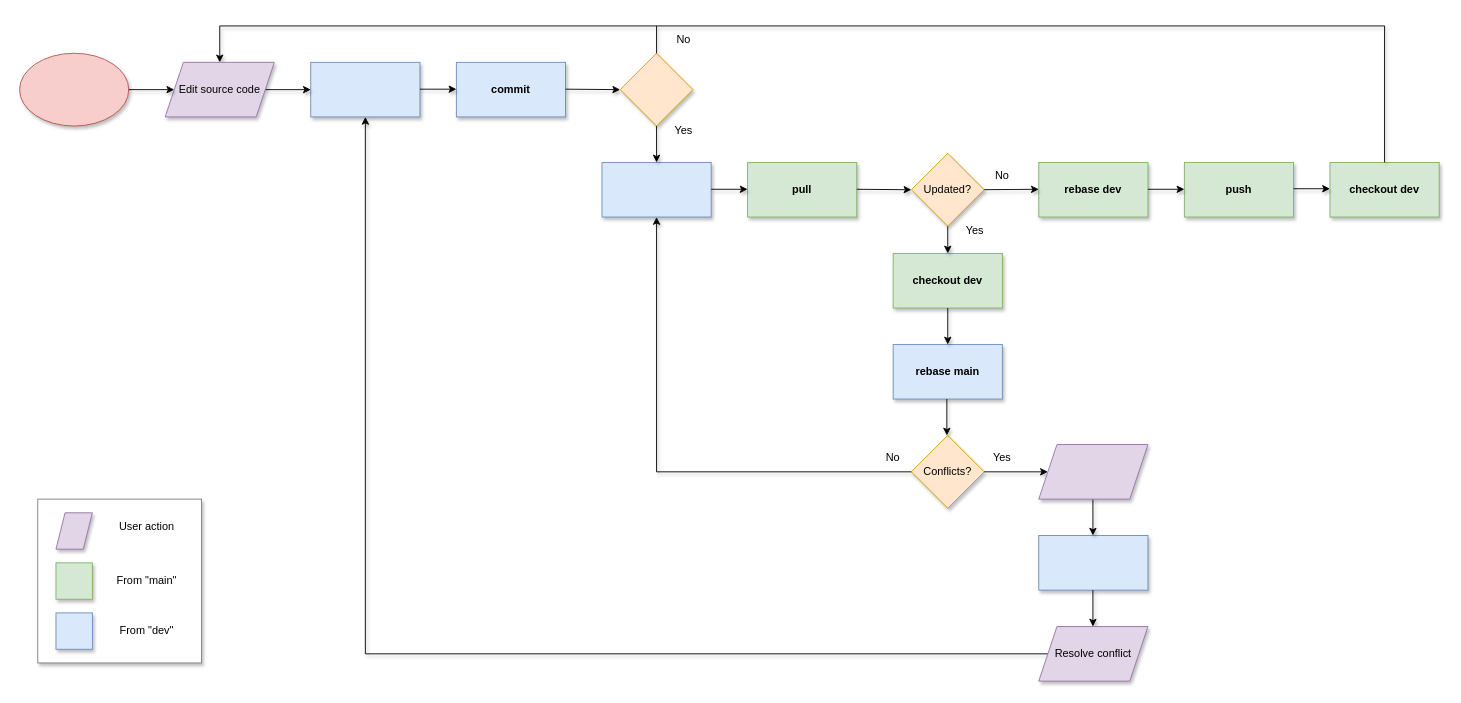
Image size: 1461x703. Some labels were removed from this diagram. The centre of each missing label's shape, as x and y in pixels:
Abort rebase: (x=1093, y=473)
add: (x=365, y=90)
checkout main: (x=657, y=190)
merge main: (x=1093, y=564)
Ready to push?: (x=657, y=90)
Start: (x=74, y=90)
